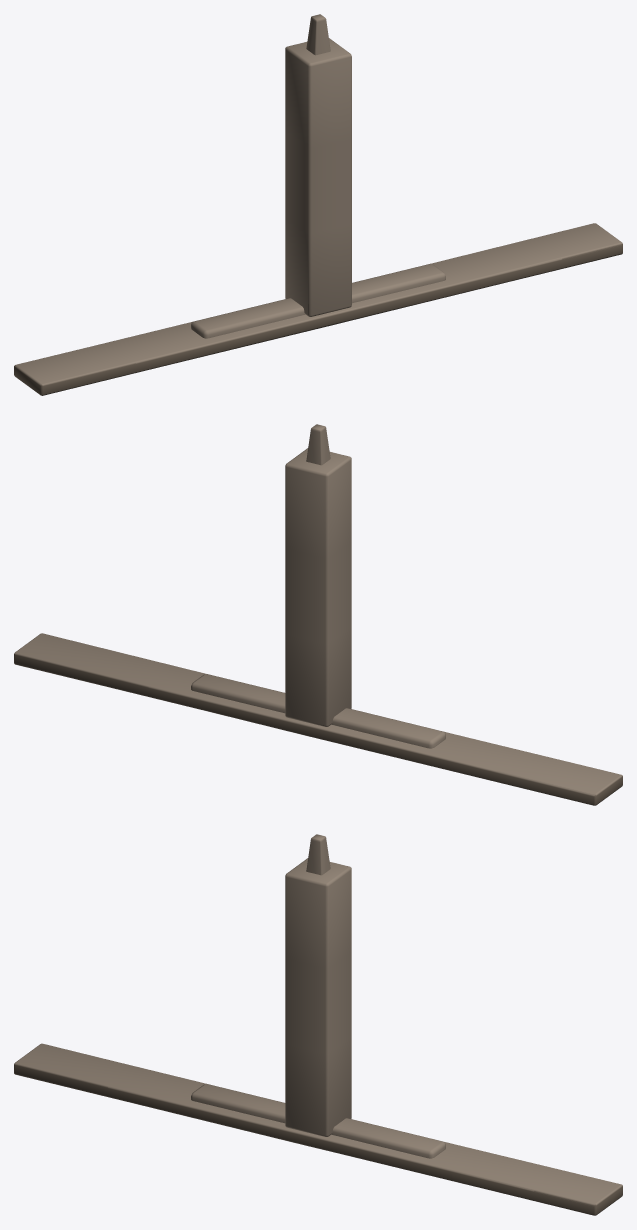
File: deck.glb
The picture shows the model from 3 angles, top to bottom: view 1: azimuth 30°, elevation 25°; view 2: azimuth 150°, elevation 25°; view 3: azimuth 330°, elevation 25°; orthographic projection.
Visible parts, largest first — view 1: beam, plank_1, plank_0, plank_3, handrail, post; view 2: beam, plank_2, plank_3, plank_1, handrail, plank_0, post; view 3: beam, plank_1, plank_0, plank_3, handrail, post.
Boxes of the visible parts, x1,y1,x2,y2 form: beam: (285,38,351,316); plank_1: (14,244,622,391); plank_0: (14,254,621,395); plank_3: (14,223,622,393); handrail: (191,264,445,338); post: (306,14,330,55); beam: (285,448,351,726); plank_2: (14,659,622,805); plank_3: (14,633,616,805); plank_1: (422,733,622,796); handrail: (191,674,445,748); plank_0: (14,663,622,804); post: (306,424,330,465); beam: (285,858,351,1136); plank_1: (14,1043,609,1215); plank_0: (14,1065,622,1215); plank_3: (191,1117,622,1213); handrail: (191,1084,445,1158); post: (306,834,330,875).
Size of the model in its own units: 2.4 by 1.18 by 0.2018.
